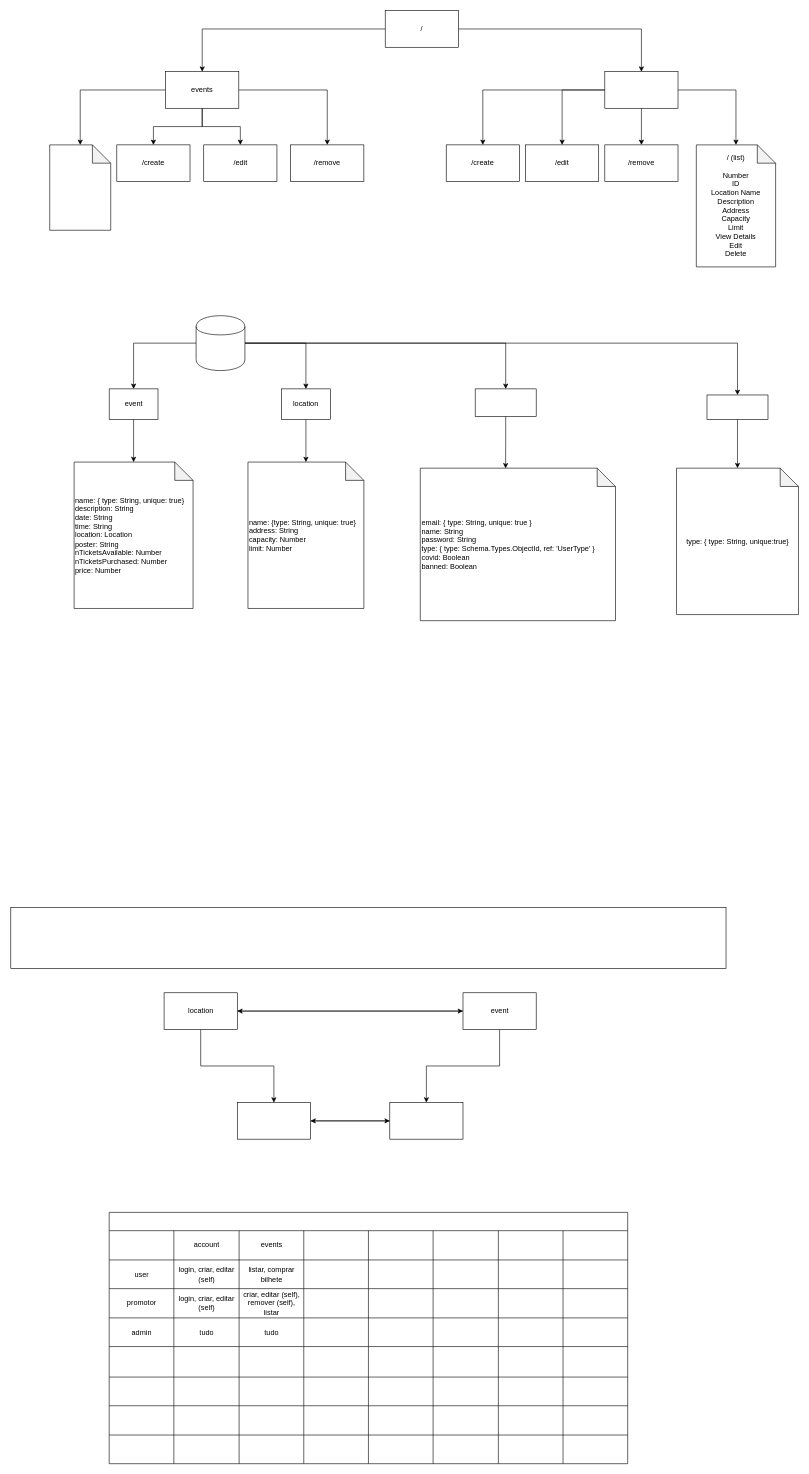
The diagram is 809 pixels wide and 1474 high, and some of its shapes have lost their labels. Here are the shapes that lost their labels. From the top down, the box of each, then its label:
(604, 71, 678, 108): locations
(49, 144, 111, 230): / (list) Number ID Event Name Description View Details Edit Delete
(196, 315, 245, 371): MongoDB
(475, 388, 536, 416): users
(706, 394, 768, 419): userTypes
(10, 907, 726, 968): TODO
(237, 1102, 310, 1139): usedCapacity
(389, 1102, 463, 1139): ticketsPurchased
(109, 1212, 628, 1464): perms TODO
